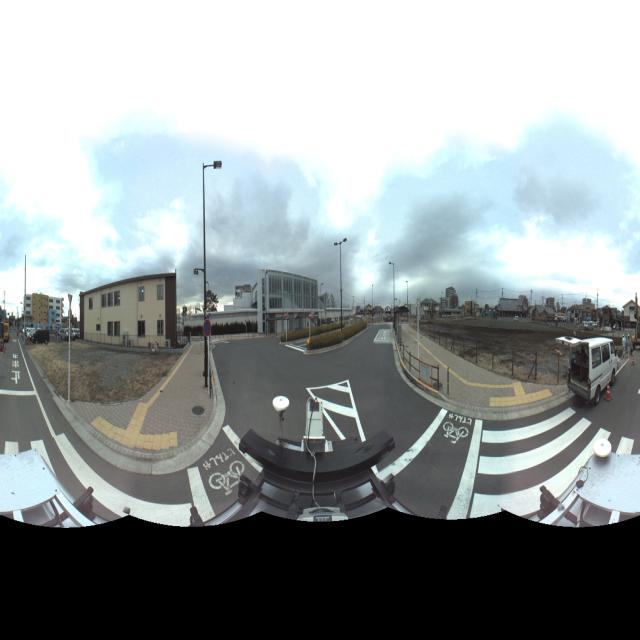b_1: (80, 266, 180, 352), (248, 262, 324, 344), (23, 292, 72, 332), (440, 282, 462, 322)
